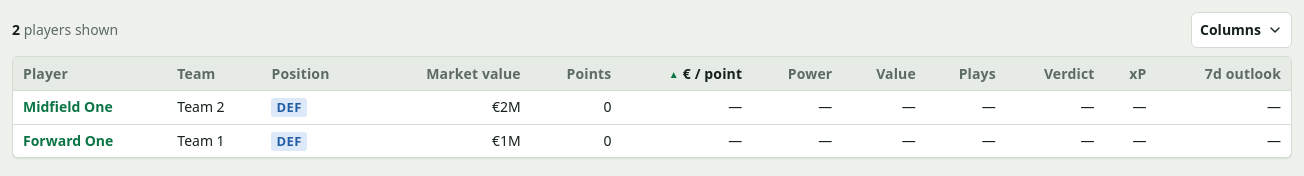
PlayerTable (uncontrolled) › still lets a header click resort the table when uncontrolled
Click the text "Market value" at (474, 74), box [426,64,521,84]
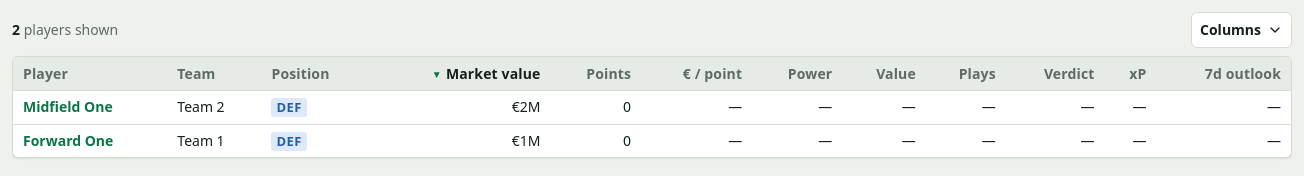
Now the column heading "Market value ▼" is shown, box [371,57,550,91]
